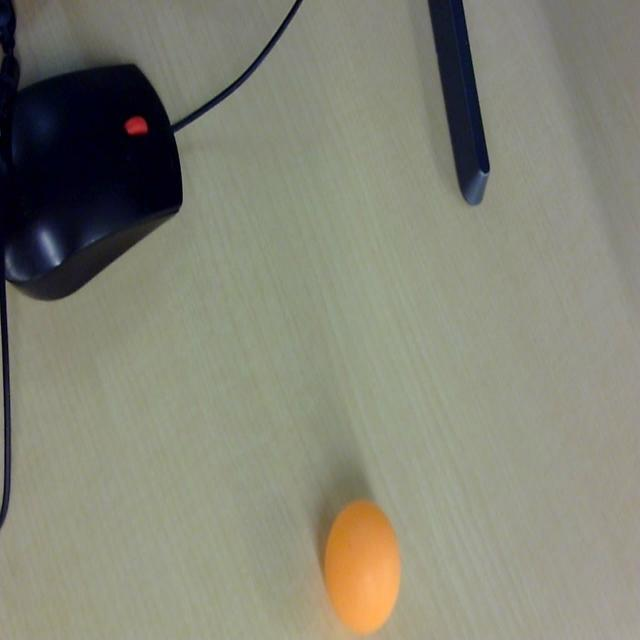ball: (324, 494, 404, 635)
